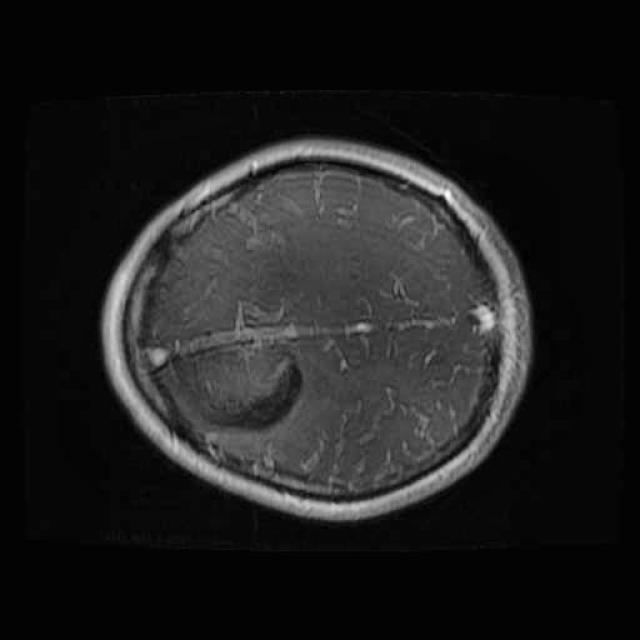Tumor: (156, 320, 310, 446)
